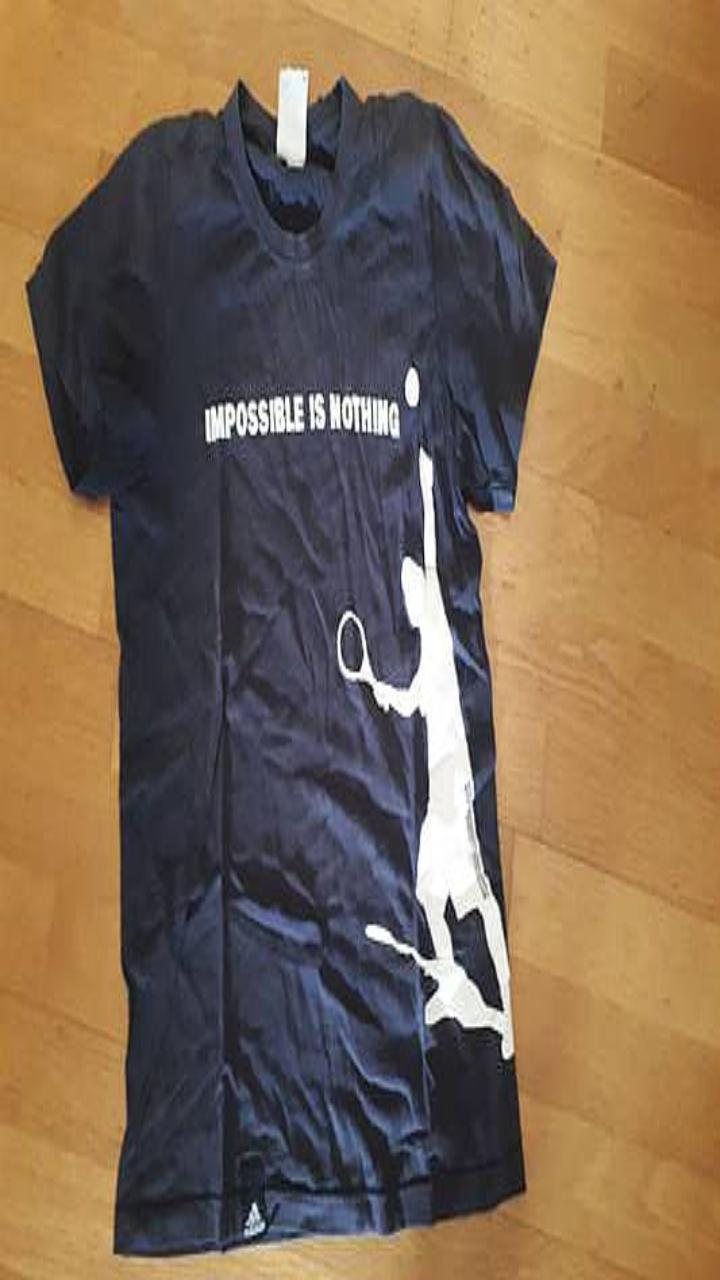T-Shirt: (26, 76, 555, 1253)
